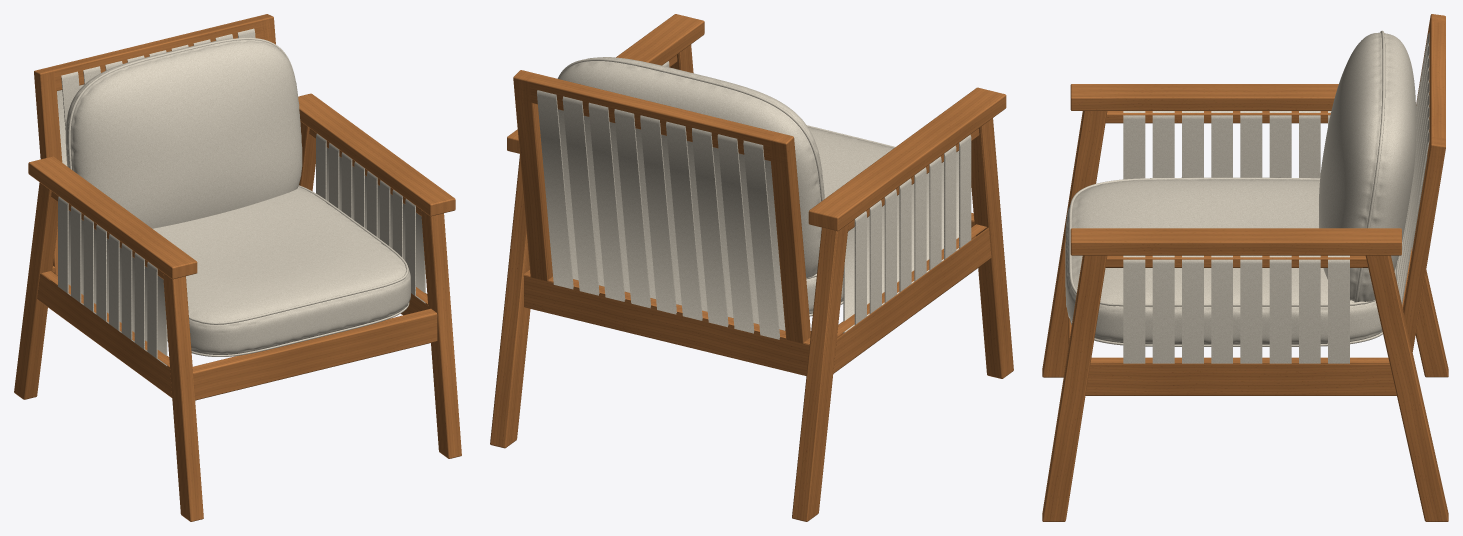
3 renders of one model, left to right at view 1: azimuth 30°, elevation 25°; view 2: azimuth 150°, elevation 25°; view 3: azimuth 270°, elevation 25°, orthographic. The views are drawn at different scales.
Visible parts, largest first — view 1: Chair; view 2: Chair; view 3: Chair.
Part boxes in pixels (x1,y1,x2,y2): Chair: (14,14,461,521); Chair: (490,14,1013,521); Chair: (1042,14,1448,521).
Bounding box in the file's own units: 0.72 × 0.8 × 0.7787.
2 materials, 2 textured.
